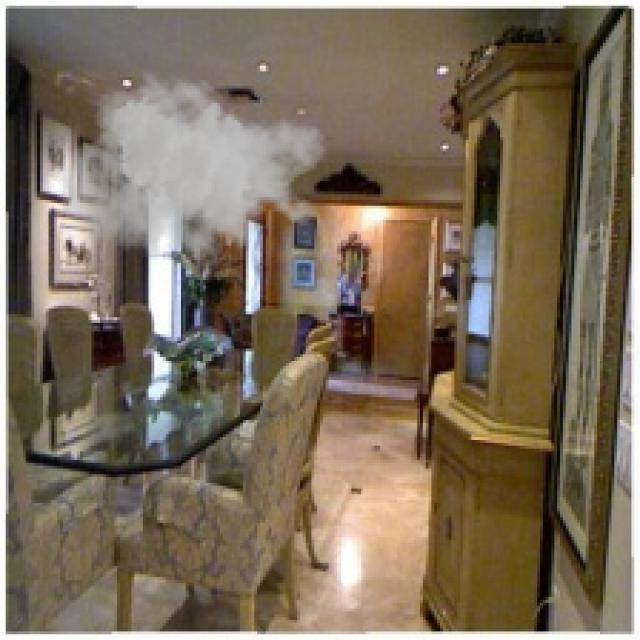smoke: (57, 71, 329, 283)
